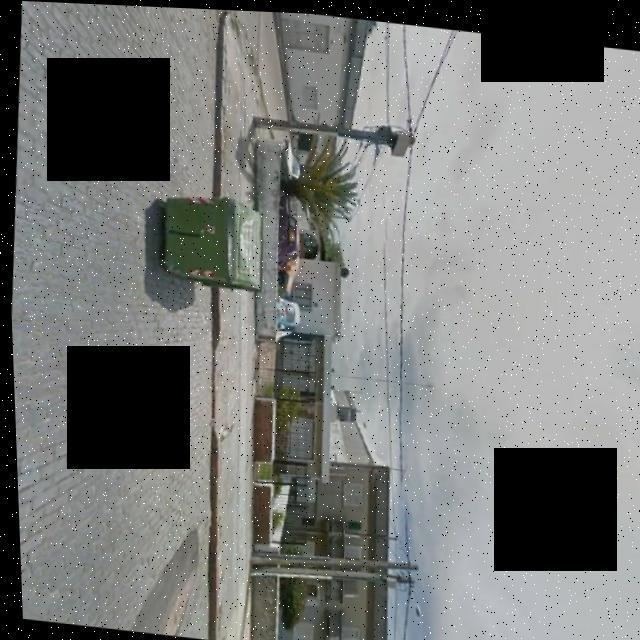bin: (130, 171, 276, 300)
